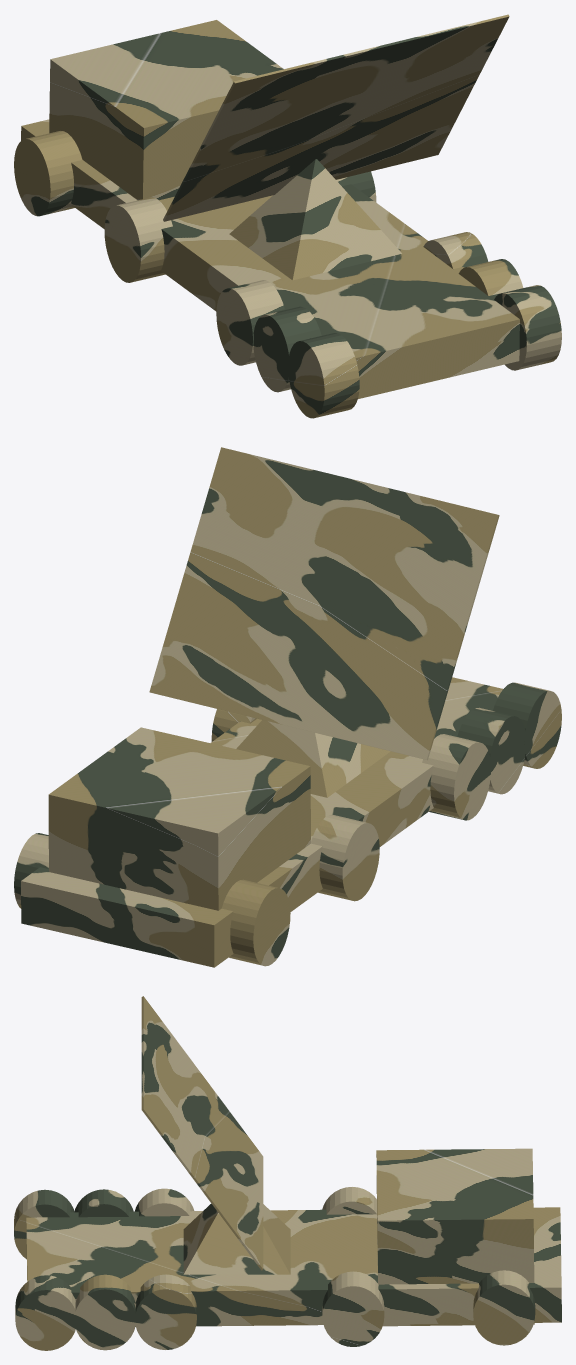
File: Eye.fbx
The picture shows the model from 3 angles, top to bottom: view 1: azimuth 30°, elevation 25°; view 2: azimuth 150°, elevation 25°; view 3: azimuth 270°, elevation 25°; orthographic projection. The views are drawn at different scales.
Parts seen in each view (by area): view 1: base, radar; view 2: base, radar; view 3: base, radar.
Boxes of the visible parts, x1,y1,x2,y2 form: base: [14, 20, 561, 418]; radar: [163, 14, 509, 280]; base: [14, 677, 561, 967]; radar: [149, 447, 499, 797]; base: [14, 1148, 561, 1350]; radar: [141, 996, 290, 1274].
Bounding box in the file's own units: 500 × 518 × 1025.
Materials: 2 (2 with a texture image).
